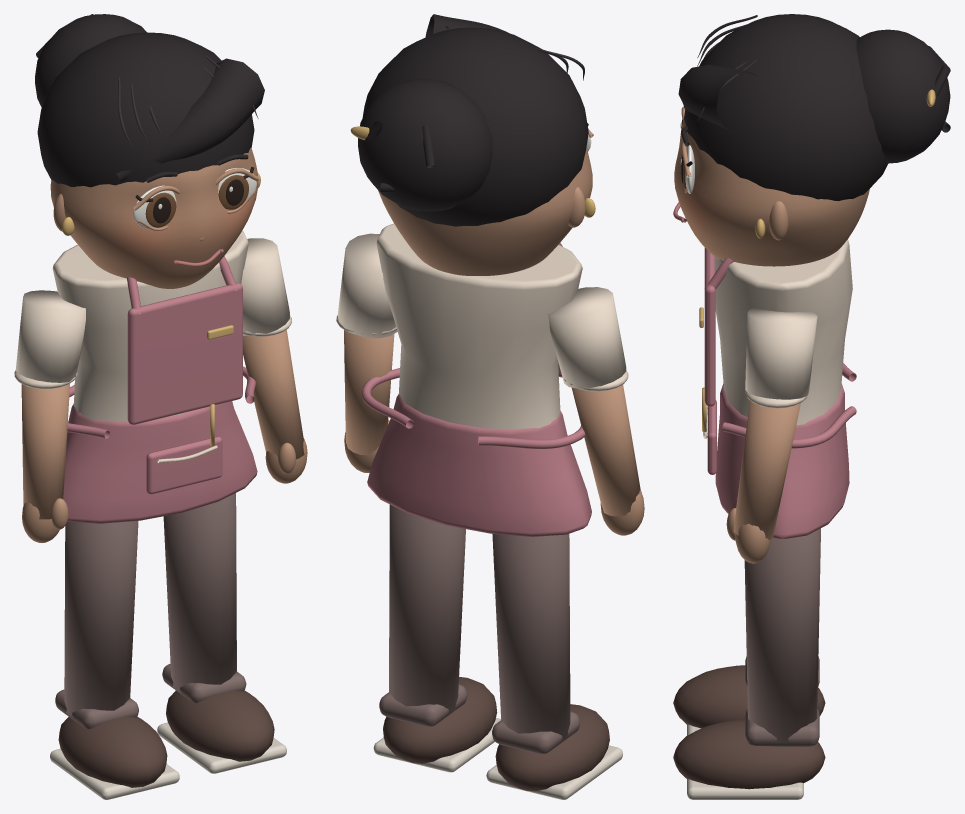
The model's file is staff_female_01.glb.
3 views of the same model, side by side, from view 1: azimuth 30°, elevation 25°; view 2: azimuth 150°, elevation 25°; view 3: azimuth 270°, elevation 25° (orthographic). The views are drawn at different scales.
Visible parts, largest first — view 1: Hair_base.001, Head.001, Apron_lower.001, Apron_bib.001, Leg_L.001, Leg_R.001, Clothed_torso.001, Shoe_R.001, Shoe_L.001, smooth_side_sweep, Bare_forearm_-1.001, Sleeve_-1.001 (+10 smaller); view 2: Clothed_torso.001, Hair_base.001, Apron_lower.001, Leg_L.001, Leg_R.001, large_twisted_bun, Head.001, Sleeve_-1.001, Bare_forearm_-1.001, Shoe_L.001, Shoe_R.001, Bare_forearm_1.001 (+9 smaller); view 3: Hair_base.001, Leg_R.001, Clothed_torso.001, Head.001, Apron_lower.001, large_twisted_bun, Shoe_R.001, Sleeve_1.001, Bare_forearm_1.001, Shoe_L.001, smooth_side_sweep, Apron_bib.001 (+7 smaller).
Boxes of the visible parts, bbox=[...] form: Hair_base.001: bbox=[37, 32, 254, 187]; Head.001: bbox=[50, 148, 258, 288]; Apron_lower.001: bbox=[63, 401, 257, 523]; Apron_bib.001: bbox=[127, 283, 242, 424]; Leg_L.001: bbox=[64, 521, 138, 716]; Leg_R.001: bbox=[163, 493, 236, 693]; Clothed_torso.001: bbox=[52, 230, 248, 421]; Shoe_R.001: bbox=[166, 690, 274, 761]; Shoe_L.001: bbox=[58, 717, 167, 787]; smooth_side_sweep: bbox=[116, 58, 264, 181]; Bare_forearm_-1.001: bbox=[21, 383, 70, 519]; Sleeve_-1.001: bbox=[15, 290, 85, 382]; Clothed_torso.001: bbox=[376, 223, 582, 429]; Hair_base.001: bbox=[362, 27, 588, 226]; Apron_lower.001: bbox=[367, 394, 591, 536]; Leg_L.001: bbox=[492, 534, 570, 740]; Leg_R.001: bbox=[389, 504, 465, 715]; large_twisted_bun: bbox=[358, 79, 492, 211]; Head.001: bbox=[378, 147, 592, 275]; Sleeve_-1.001: bbox=[548, 287, 626, 388]; Bare_forearm_-1.001: bbox=[572, 384, 640, 516]; Shoe_L.001: bbox=[495, 704, 609, 791]; Shoe_R.001: bbox=[383, 677, 497, 763]; Bare_forearm_1.001: bbox=[344, 330, 394, 455]; Hair_base.001: bbox=[684, 14, 887, 201]; Leg_R.001: bbox=[744, 528, 820, 742]; Clothed_torso.001: bbox=[714, 239, 852, 425]; Head.001: bbox=[674, 118, 869, 266]; Apron_lower.001: bbox=[715, 383, 849, 538]; large_twisted_bun: bbox=[856, 29, 950, 163]; Shoe_R.001: bbox=[673, 719, 825, 789]; Sleeve_1.001: bbox=[745, 308, 817, 399]; Bare_forearm_1.001: bbox=[733, 400, 800, 539]; Shoe_L.001: bbox=[673, 665, 825, 728]; smooth_side_sweep: bbox=[678, 64, 758, 132]; Apron_bib.001: bbox=[704, 247, 715, 406].
Bounding box in the file's own units: 0.8333 × 2 × 0.6823.
15 materials, 1 textured.
